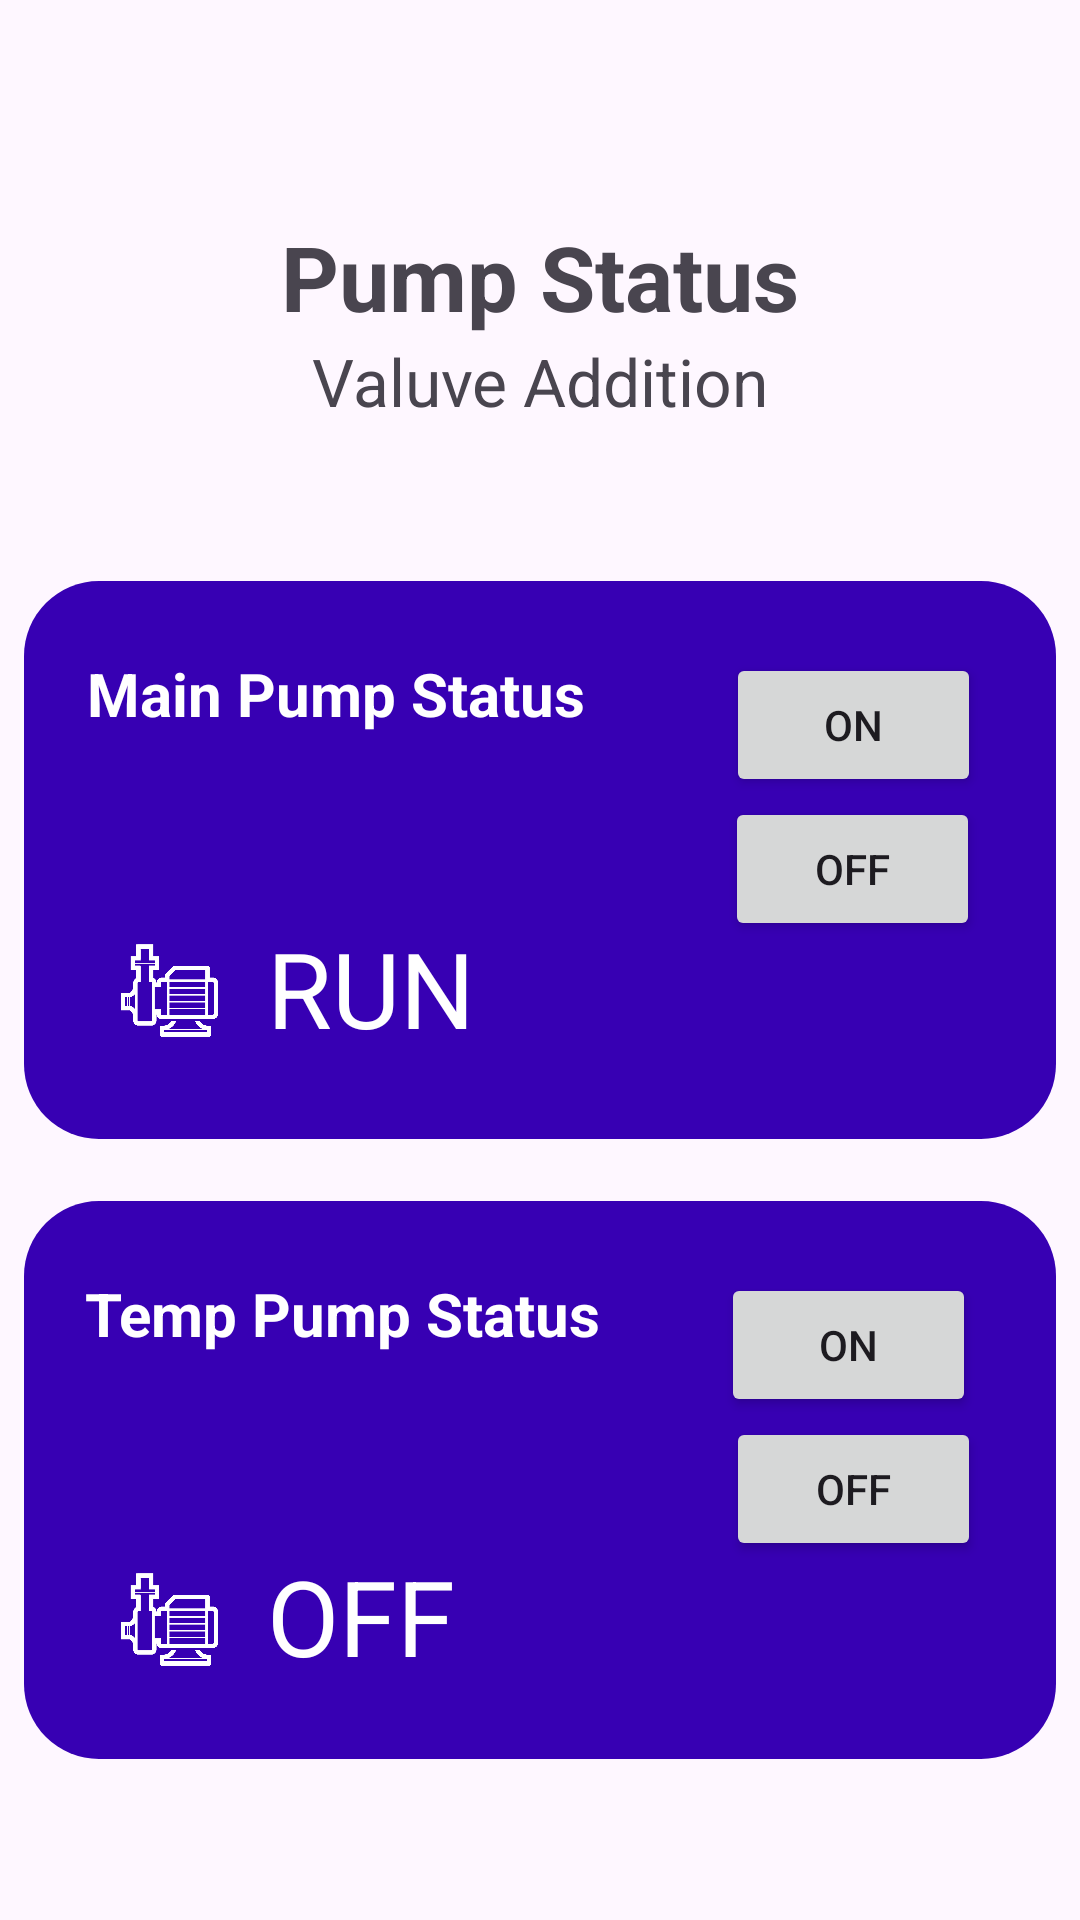

Locate icon controls on the screen. Image size 1080×1920, boxes as (x1, y1, x2, y2).
pump: (121, 944, 218, 1037), (121, 1573, 218, 1666)
